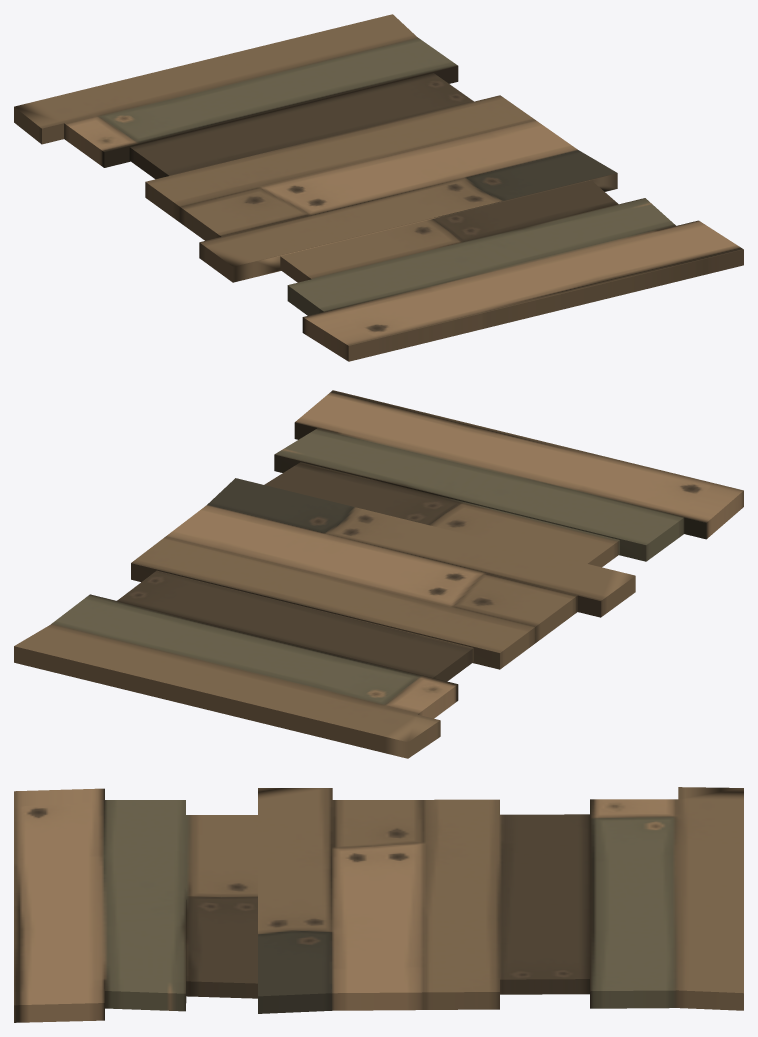
The model's file is SM_Bld_Dock_Short_02.fbx.
3 renders of one model, top to bottom at view 1: azimuth 30°, elevation 25°; view 2: azimuth 150°, elevation 25°; view 3: azimuth 270°, elevation 25°, orthographic. The views are drawn at different scales.
Parts seen in each view (by area): view 1: SM_Bld_Dock_Short_02; view 2: SM_Bld_Dock_Short_02; view 3: SM_Bld_Dock_Short_02.
Part boxes in pixels (box(x1,y1,x2,y2)): SM_Bld_Dock_Short_02: box(14, 14, 743, 361); SM_Bld_Dock_Short_02: box(14, 390, 743, 758); SM_Bld_Dock_Short_02: box(14, 787, 743, 1022).
Bounding box in the file's own units: 265 × 9.97 × 374.
